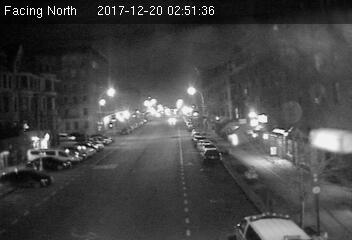police: (231, 207, 315, 240)
